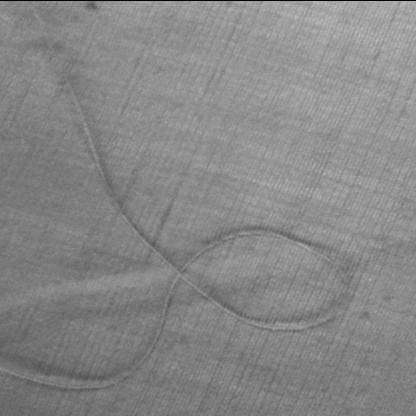objects: (1, 0, 356, 392)
